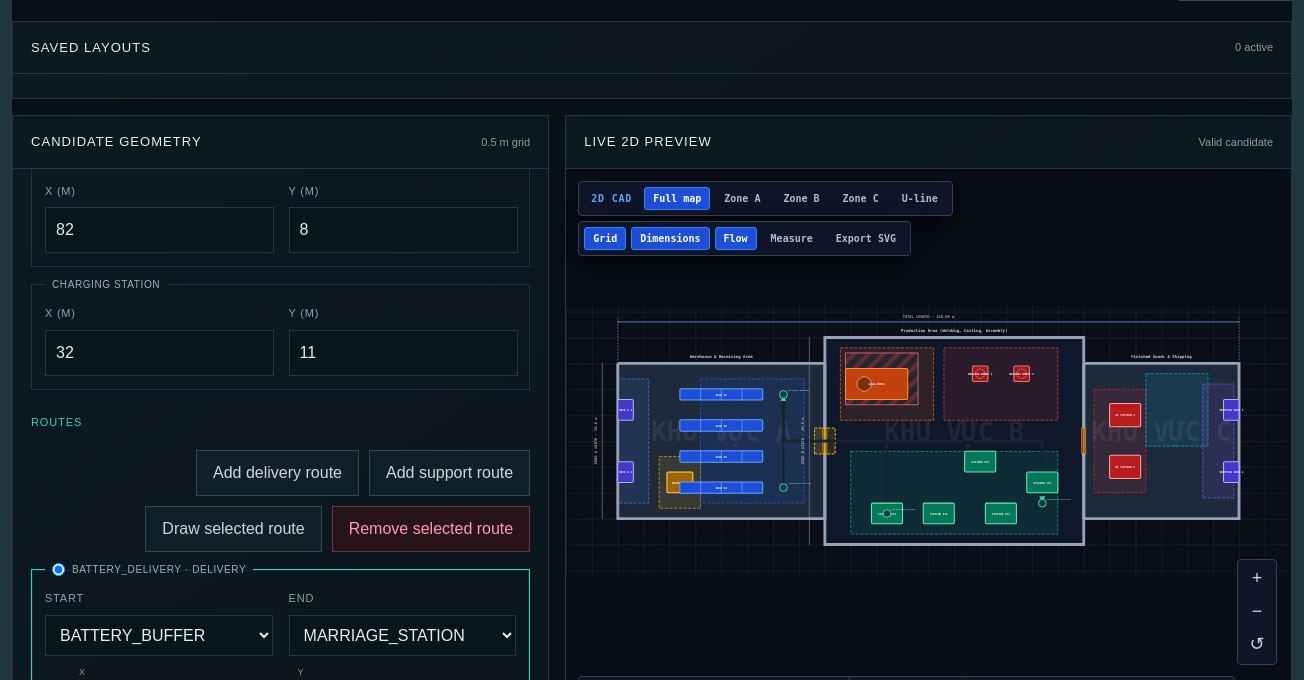
Scenario: LayoutsPage › adds and selects an alternative delivery route
This screenshot has width=1304, height=680.
(page scrolled)
Click the button "Add delivery route".
click(278, 473)  # box [196,450,359,496]
(page scrolled)
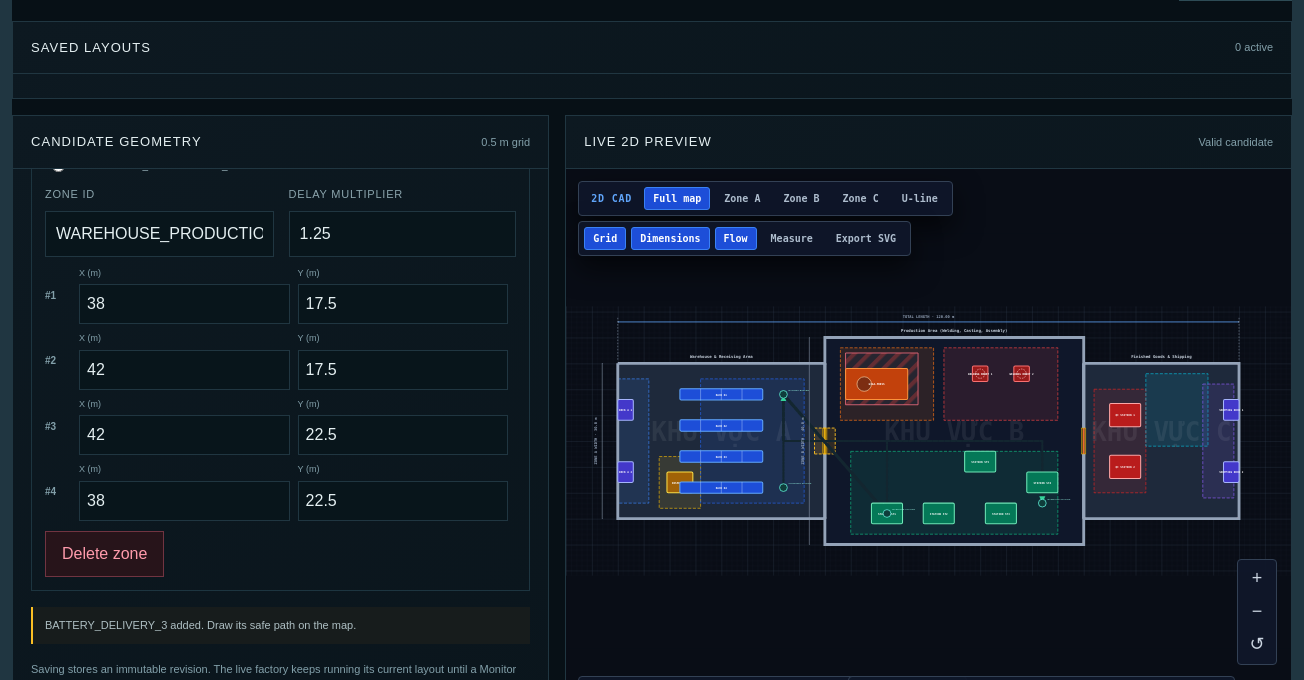
Expected: the message shows "BATTERY_DELIVERY_3 added", [45,618,356,630]
